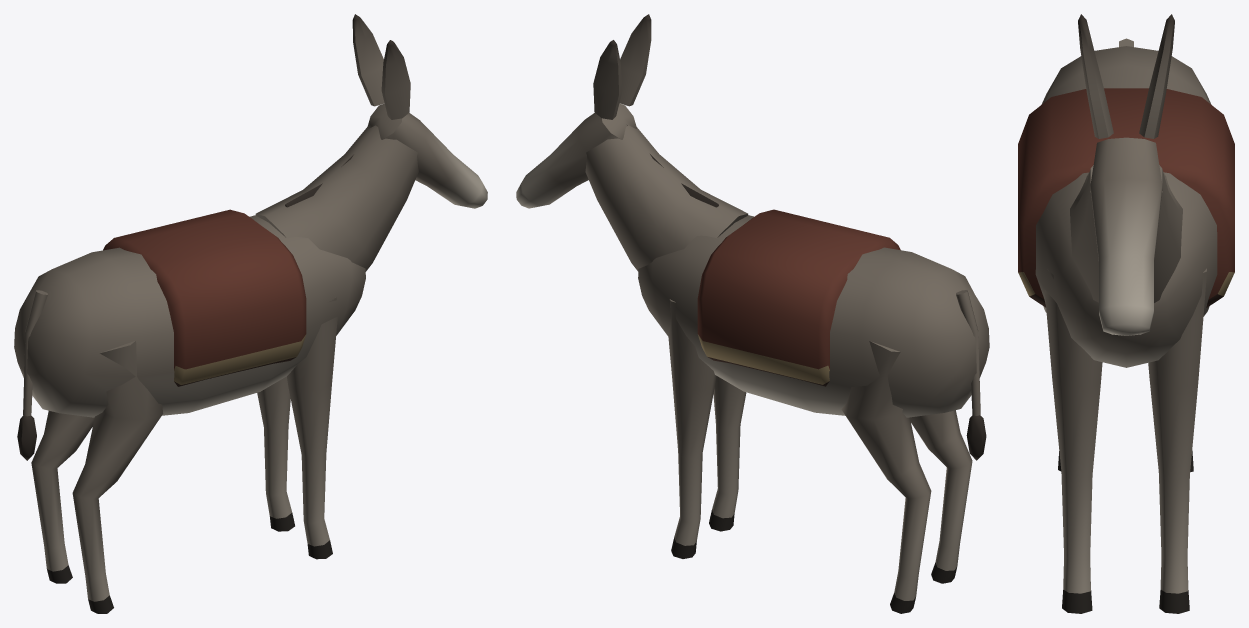
File: actor-donkey.glb
3 views of the same model, side by side, from view 1: azimuth 30°, elevation 25°; view 2: azimuth 150°, elevation 25°; view 3: azimuth 270°, elevation 25° (orthographic). The views are drawn at different scales.
Parts seen in each view (by area): view 1: body, head, leg_br, leg_fr, leg_bl, leg_fl; view 2: body, head, leg_bl, leg_fl, leg_br, leg_fr; view 3: body, head, leg_fr, leg_fl.
Part boxes in pixels (box(x1,y1,x2,y2)): body: box(14, 209, 365, 460); head: box(255, 14, 487, 271); leg_br: box(72, 340, 163, 613); leg_fr: box(287, 297, 337, 559); leg_bl: box(31, 411, 94, 583); leg_fl: box(257, 376, 294, 531); body: box(638, 209, 989, 460); head: box(516, 14, 748, 271); leg_bl: box(841, 341, 931, 613); leg_fl: box(668, 299, 716, 558); leg_br: box(910, 410, 972, 583); leg_fr: box(709, 376, 746, 531); body: box(1018, 38, 1234, 367); head: box(1070, 14, 1182, 335); leg_fr: box(1044, 269, 1102, 613); leg_fl: box(1148, 268, 1206, 613).
Size of the model in its own units: 1.56 by 1.59 by 0.4898.
